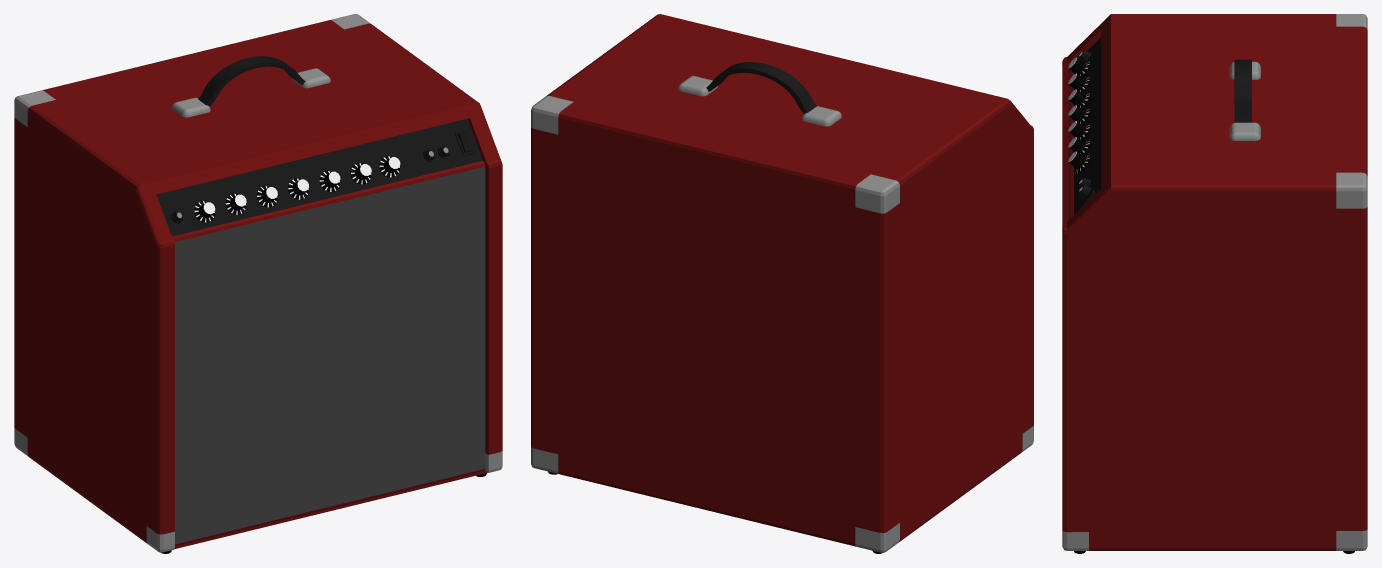
The model's file is 5ebb256c-7e8b-41c7-a261-4a01a01dfc88.glb.
3 views of the same model, side by side, from view 1: azimuth 30°, elevation 25°; view 2: azimuth 150°, elevation 25°; view 3: azimuth 270°, elevation 25° (orthographic). The views are drawn at different scales.
Visible parts, largest first — view 1: Cylinder001; view 2: Cylinder001; view 3: Cylinder001.
Part boxes in pixels (bbox=[...]): Cylinder001: bbox=[14, 14, 502, 553]; Cylinder001: bbox=[531, 14, 1033, 553]; Cylinder001: bbox=[1062, 14, 1367, 553].
Size of the model in its own units: 33.65 by 36.62 by 24.83.
